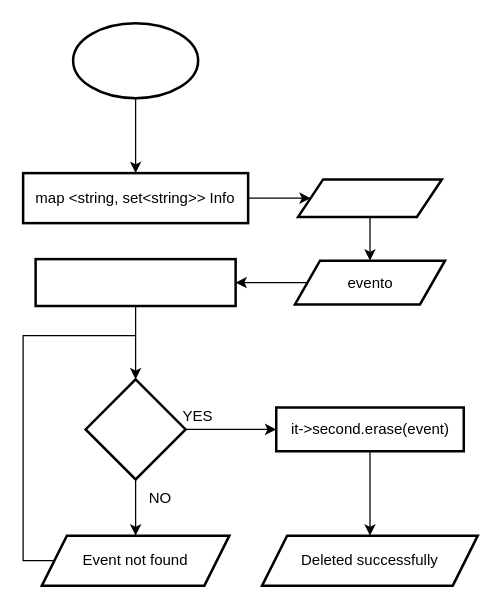
Some shapes in this 500 by 608 pixel diagram are drawn without their labels. Here are the shapes that lost their labels. From the top down, the centre of each, then its label:
At [369,198]: "fecha".
At [135,282]: "it = Info.find(fecha)".
At [135,429]: "it != Info.end".
